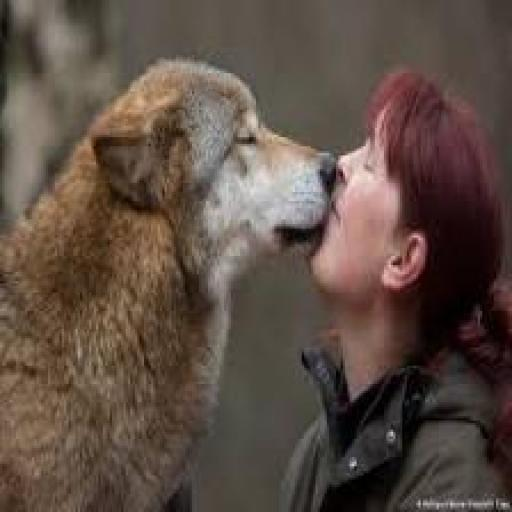wolf: (0, 0, 339, 512)
